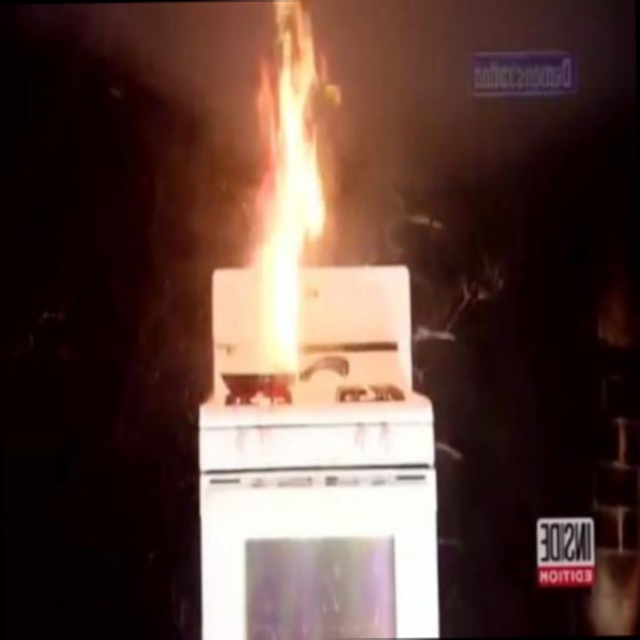fire: (184, 0, 377, 433)
